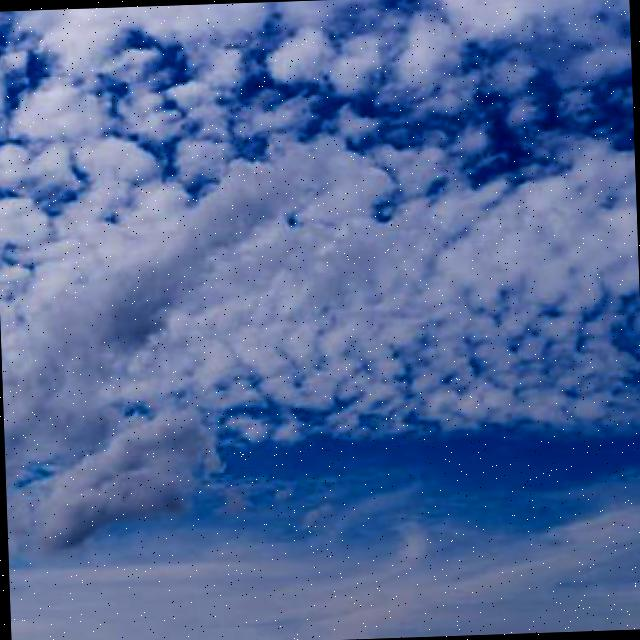Cc: (1, 1, 640, 541)
